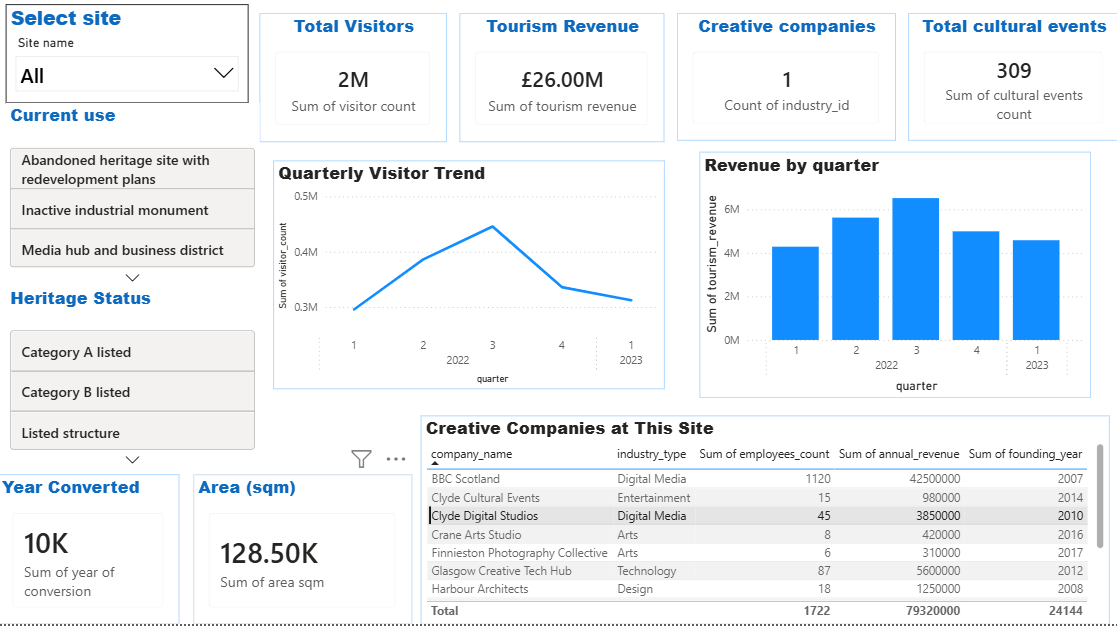

This screenshot's page, from the dashboard's own definition file:
{"tool":"powerbi","page":{"name":"Site Deep Div","canvas":[1280,720],"ordinal":1},"visuals":[{"type":"slicer","title":"Select site","fields":{"Values":["Maritime sites.site_name"]},"box":[10,12.8,276.5,112.6],"z":0},{"type":"cardVisual","title":"Total Visitors","fields":{"Data":["Sum(Economic impact.visitor_count)"]},"box":[299.3,22.8,213.8,146.8],"z":1000},{"type":"cardVisual","title":"Tourism Revenue","fields":{"Data":["Sum(Economic impact.tourism_revenue)"]},"box":[527.4,22.8,233.8,146.8],"z":2000},{"type":"cardVisual","title":"Creative companies","fields":{"Data":["Count(Creative industries.industry_id)"]},"box":[775.4,22.8,249.4,145.4],"z":3000},{"type":"cardVisual","title":"Total cultural events","fields":{"Data":["Sum(Economic impact.cultural_events_count)"]},"box":[1039.1,22.8,240.9,145.4],"z":4000},{"type":"lineChart","title":"Quarterly Visitor Trend","fields":{"Category":["Economic impact.year","Economic impact.quarter"],"Y":["Sum(Economic impact.visitor_count)"]},"box":[315,191,446.1,260.8],"z":5000},{"type":"tableEx","title":"Creative Companies at This Site","fields":{"Values":["Creative industries.company_name","Creative industries.industry_type","Sum(Creative industries.employees_count)","Sum(Creative industries.annual_revenue)","Sum(Creative industries.founding_year)"]},"box":[483.2,481.8,785.4,238],"z":6000},{"type":"clusteredColumnChart","title":"Revenue by quarter","fields":{"Category":["Economic impact.year","Economic impact.quarter"],"Y":["Sum(Economic impact.tourism_revenue)"]},"box":[801.1,181,446.1,280.8],"z":7000},{"type":"cardVisual","title":"Current use","fields":{"Rows":["Maritime sites.current_use"]},"box":[10,125.4,289.4,215.2],"z":8000},{"type":"cardVisual","title":"Heritage Status","fields":{"Rows":["Maritime sites.heritage_status"]},"box":[10,333.5,289.4,215.2],"z":9000},{"type":"cardVisual","title":"Year Converted","fields":{"Data":["Sum(Maritime sites.year_of_conversion)"]},"box":[0,548.8,208.1,171],"z":10000},{"type":"cardVisual","title":"Area (sqm)","fields":{"Data":["Sum(Maritime sites.area_sqm)"]},"box":[223.8,548.8,249.4,171],"z":11000}]}

Visuals, with their boxes in screenshot pixels (x1, y1, x2, y2), scaled from the page's 1280x720 canvas onto the 1117x635 screenshot:
"Select site" slicer: locate(9, 11, 250, 111)
"Total Visitors" cardVisual: locate(261, 20, 448, 150)
"Tourism Revenue" cardVisual: locate(460, 20, 664, 150)
"Creative companies" cardVisual: locate(677, 20, 894, 148)
"Total cultural events" cardVisual: locate(907, 20, 1116, 148)
"Quarterly Visitor Trend" lineChart: locate(275, 168, 664, 398)
"Creative Companies at This Site" tableEx: locate(422, 425, 1107, 634)
"Revenue by quarter" clusteredColumnChart: locate(699, 160, 1088, 407)
"Current use" cardVisual: locate(9, 111, 261, 300)
"Heritage Status" cardVisual: locate(9, 294, 261, 484)
"Year Converted" cardVisual: locate(0, 484, 182, 634)
"Area (sqm)" cardVisual: locate(195, 484, 413, 634)
